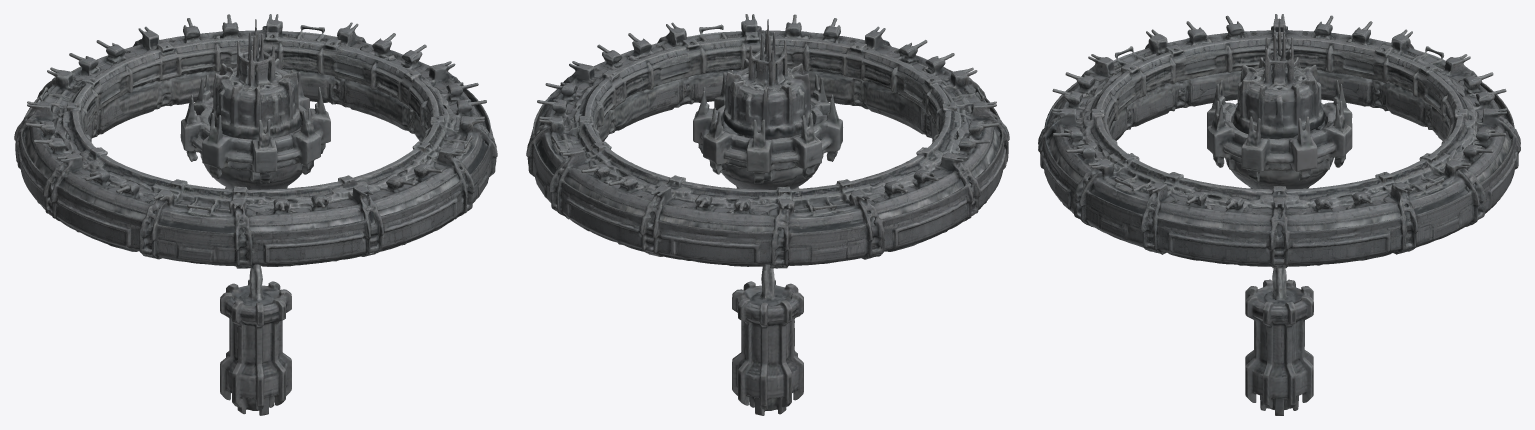
Rendered from fortress.glb.
The picture shows the model from 3 angles, left to right: view 1: azimuth 30°, elevation 25°; view 2: azimuth 150°, elevation 25°; view 3: azimuth 270°, elevation 25°; orthographic projection.
Bounding box in the file's own units: 1.9 × 1.7 × 1.9.
1 material, 1 textured.
